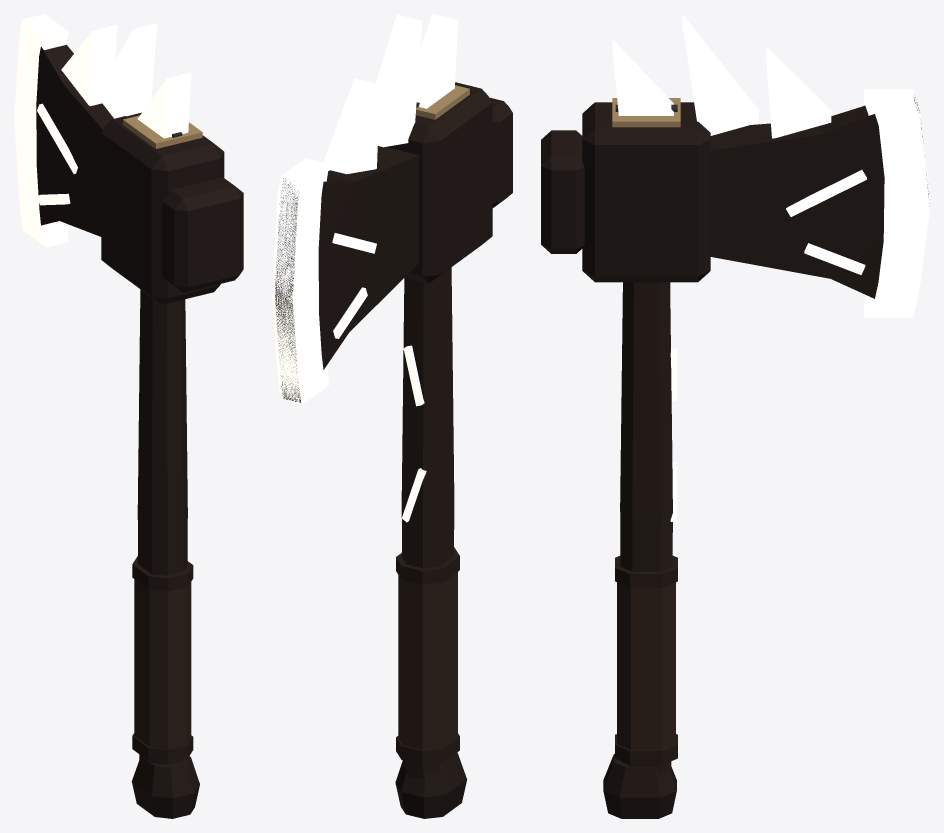
The model's file is InfernoAxe.glb.
The picture shows the model from 3 angles, left to right: view 1: azimuth 30°, elevation 25°; view 2: azimuth 150°, elevation 25°; view 3: azimuth 270°, elevation 25°; orthographic projection. The views are drawn at different scales.
Parts seen in each view (by area): view 1: Head, Handle, Glow; view 2: Head, Handle, Glow; view 3: Head, Handle, Glow.
Boxes of the visible parts, x1,y1,x2,y2 form: Head: (36, 44, 243, 304); Handle: (123, 115, 202, 818); Glow: (14, 14, 191, 465); Head: (275, 82, 512, 402); Handle: (395, 85, 469, 818); Glow: (272, 14, 457, 522); Head: (541, 97, 929, 298); Handle: (603, 98, 680, 818); Glow: (612, 14, 929, 522).
Bounding box in the file's own units: 0.4452 × 4.46 × 1.99.
